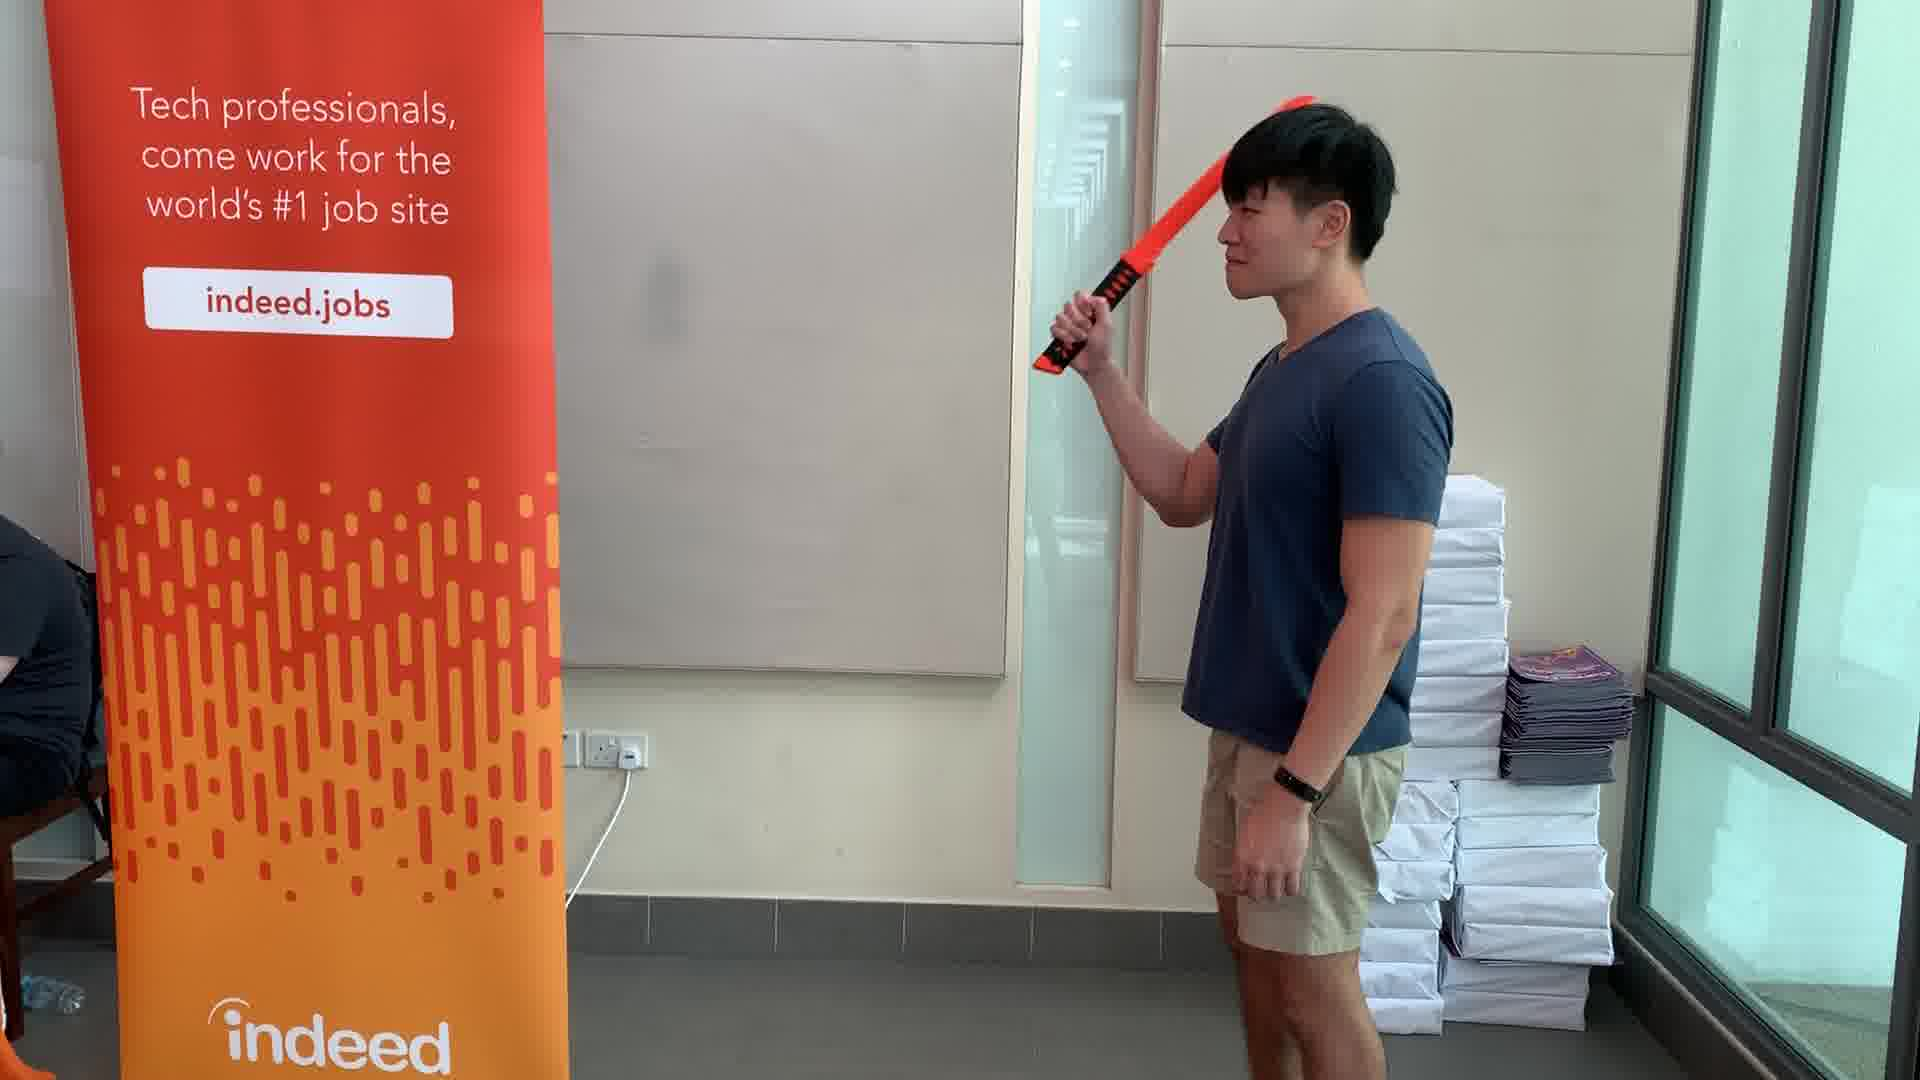knife: (1027, 84, 1327, 381)
